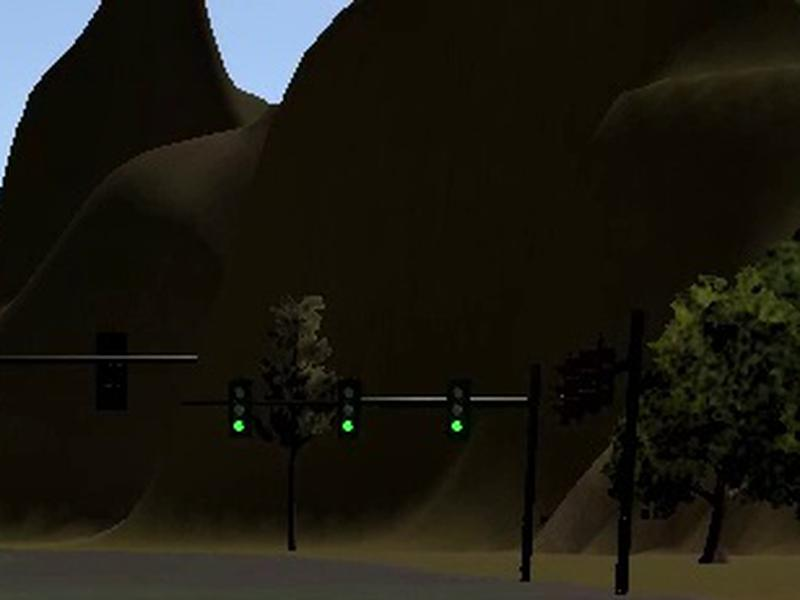Green: (337, 380, 360, 440), (229, 379, 252, 438), (446, 380, 469, 437)
